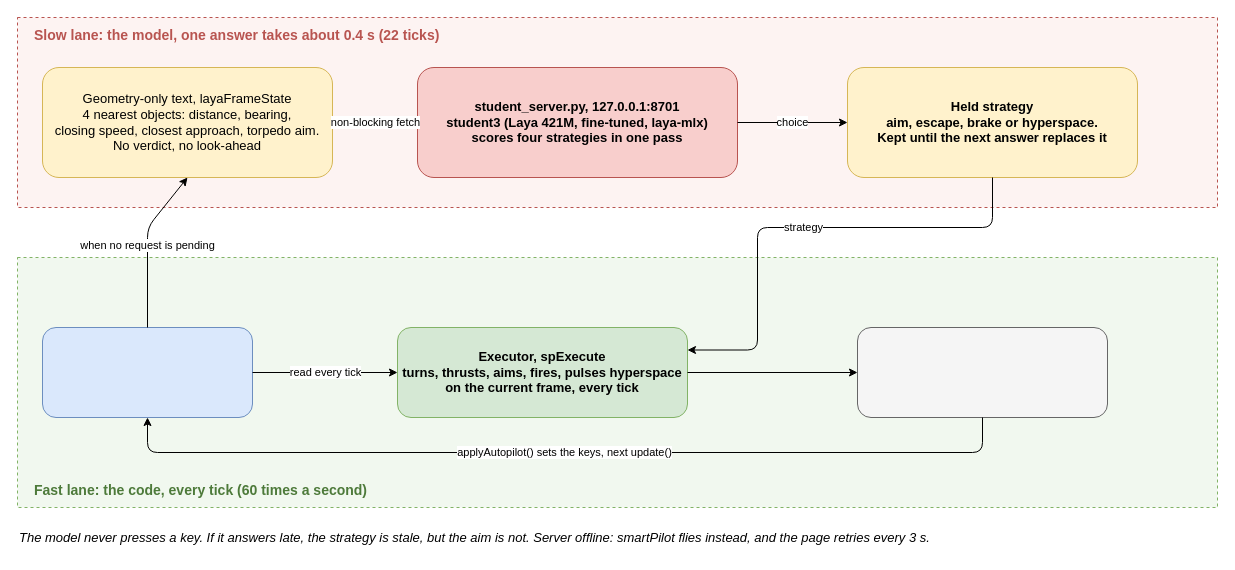
Image size: 1235x570. Some labels were removed from this diagram. The shapes that lost their labels are listed below. From the top down, each one's centre as x and y in pixels, then its label:
At (147,372): "Game, 60 Hz snapshot(): ship, rocks, saucer, torpedoes".
At (982,372): "Keys left, right, thrust, fire, hyper (the same table as the keyboard)".
